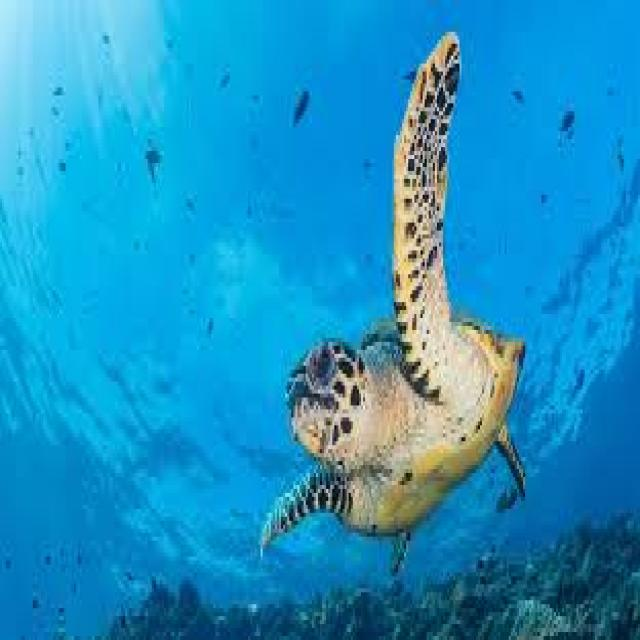Green-Sea-Turtle -Endangered-: (263, 32, 527, 566)
